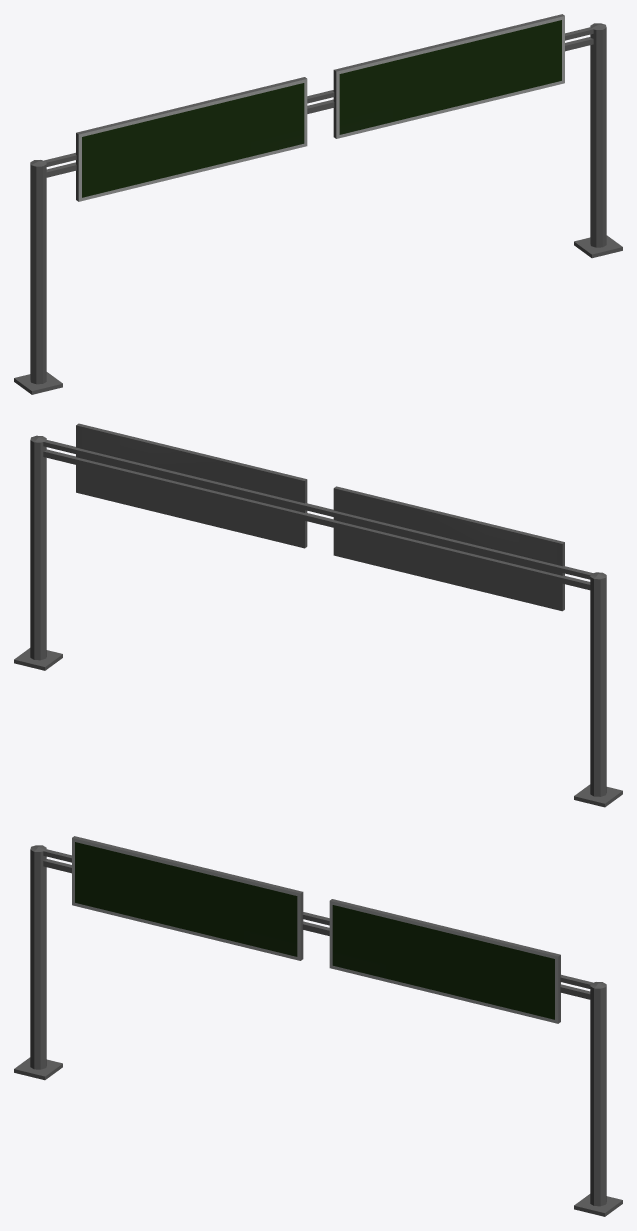
Rendered from TrafficSign.fbx.
3 renders of one model, top to bottom at view 1: azimuth 30°, elevation 25°; view 2: azimuth 150°, elevation 25°; view 3: azimuth 330°, elevation 25°, orthographic.
Parts seen in each view (by area): view 1: PlacaTransito; view 2: PlacaTransito; view 3: PlacaTransito.
Boxes of the visible parts, left/top/right/bottom form: PlacaTransito: left=14, top=14, right=622, bottom=394; PlacaTransito: left=14, top=423, right=622, bottom=807; PlacaTransito: left=14, top=836, right=622, bottom=1216.
Size of the model in its own units: 1837 by 723 by 96.83.
